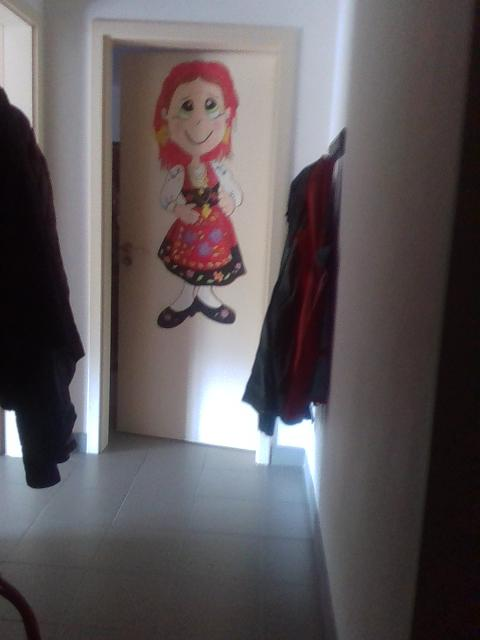door: (115, 45, 275, 451)
